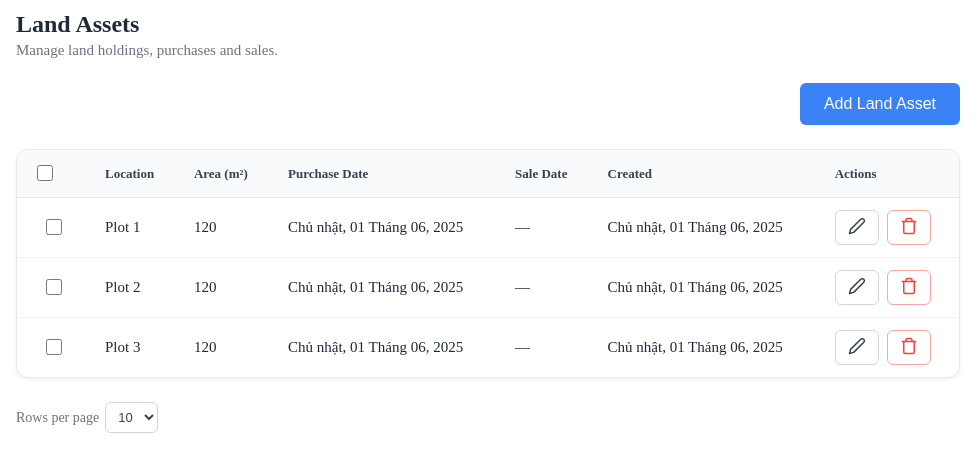
Scenario: LandAssets › bulk-deletes the selection after confirmation and clears it
expect the text "Plot 1" is shown: met, box x1=89 y1=198 x2=178 y2=258
Click the checkbox named "Select row 1" at (54,227), box x1=46 y1=219 x2=62 y2=235
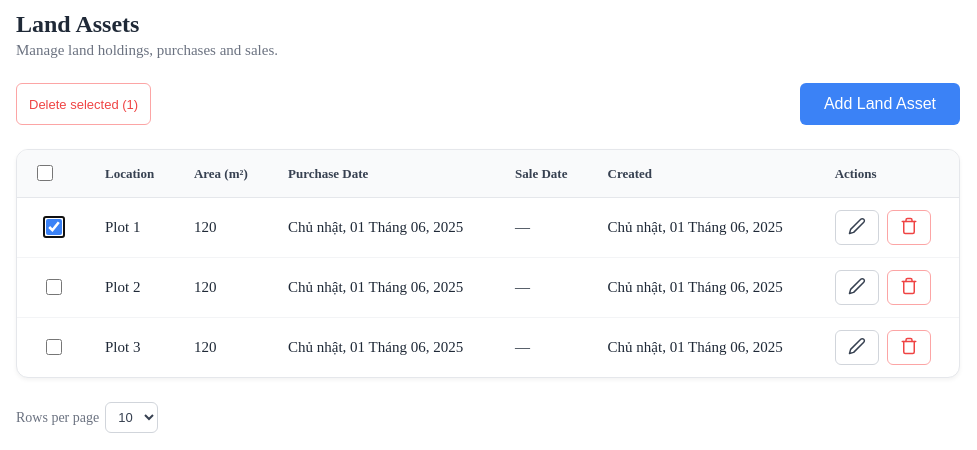
Click the checkbox named "Select row 3" at (54,347), box x1=46 y1=339 x2=62 y2=355
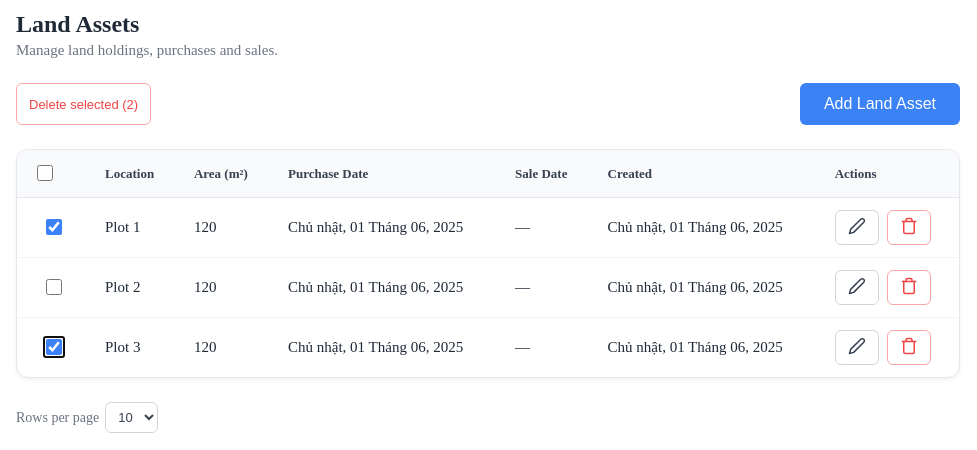
expect the button "Delete selected (2)" is shown: met
Click the button "Delete selected (2)" at (84,104), box x1=16 y1=83 x2=151 y2=125
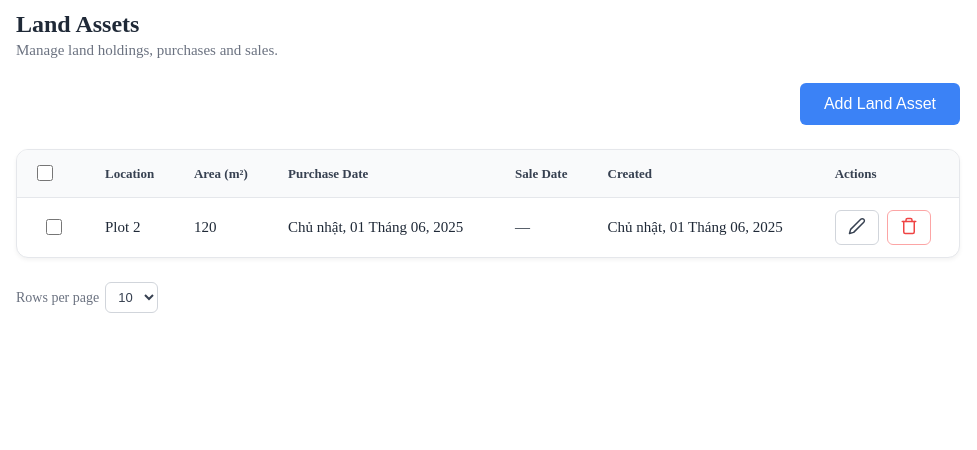
expect the text "Plot 2" is shown: met, box x1=89 y1=198 x2=178 y2=257
expect the text "Plot 1" is gone: met
expect the button "Delete selected (2)" is gone: met
